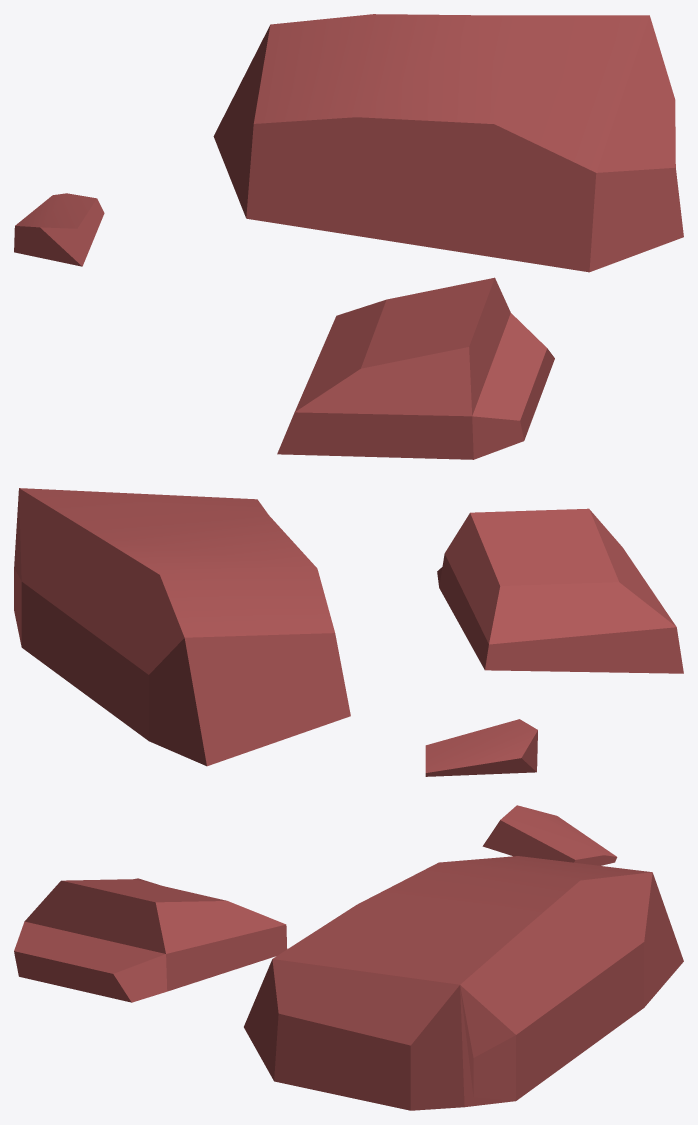
Rendered from SM_Ground_Rock_04.fbx.
3 renders of one model, top to bottom at view 1: azimuth 30°, elevation 25°; view 2: azimuth 150°, elevation 25°; view 3: azimuth 270°, elevation 25°, orthographic. The views are drawn at different scales.
Parts seen in each view (by area): view 1: Box071; view 2: Box071; view 3: Box071.
Part boxes in pixels (x1,y1,x2,y2): Box071: [14, 14, 683, 459]; Box071: [14, 488, 683, 776]; Box071: [14, 805, 683, 1110].
Bounding box in the file's own units: 57.22 × 17.74 × 59.13.
